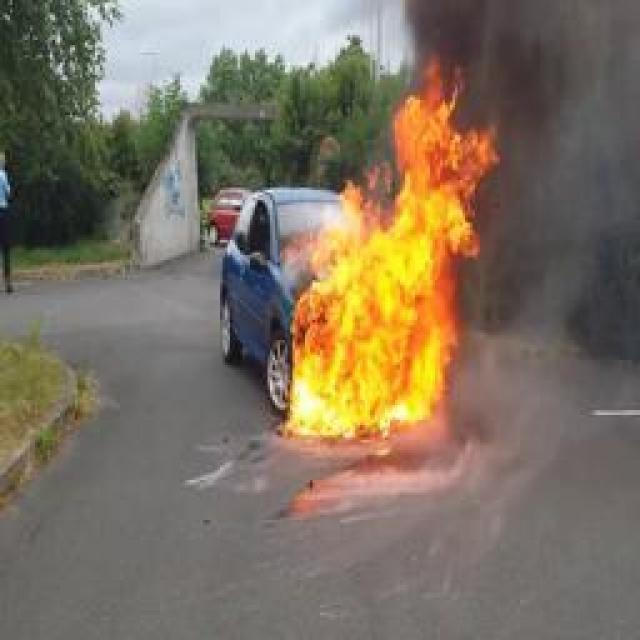Fire: (284, 50, 502, 440)
